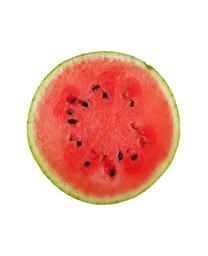watermelon: (25, 50, 183, 206)
